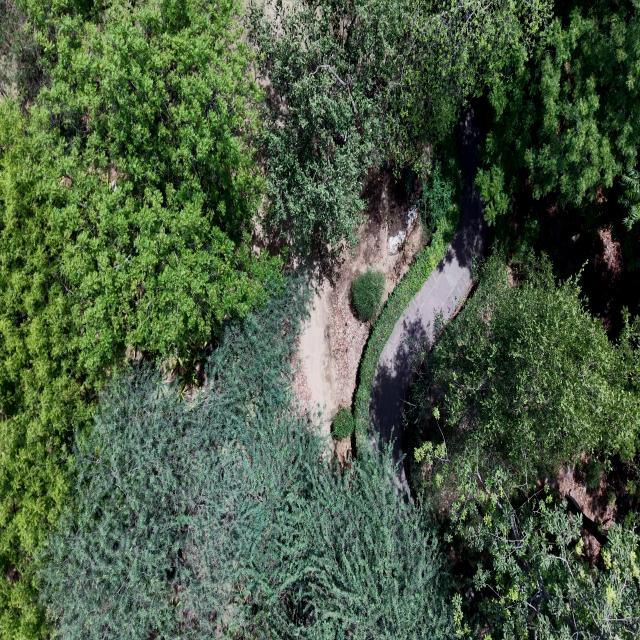DRY_AREA: (370, 102, 487, 497), (294, 172, 422, 435), (510, 180, 639, 339), (511, 180, 639, 338), (551, 454, 638, 534), (558, 466, 617, 531)
PATHWAYS: (370, 101, 487, 462)
VEGETATION_TREE: (0, 0, 639, 639), (0, 0, 410, 637), (0, 2, 279, 575), (41, 280, 453, 638), (409, 2, 639, 637), (41, 282, 306, 638), (408, 252, 639, 637), (249, 0, 549, 251), (417, 252, 639, 483), (477, 0, 639, 269), (249, 0, 403, 253), (478, 0, 639, 219), (267, 451, 453, 639), (354, 135, 460, 452), (460, 479, 639, 639), (385, 0, 551, 172), (0, 0, 43, 101), (419, 154, 459, 234), (619, 168, 639, 273), (352, 269, 385, 321), (619, 168, 639, 230), (332, 407, 353, 440), (585, 458, 603, 488)
